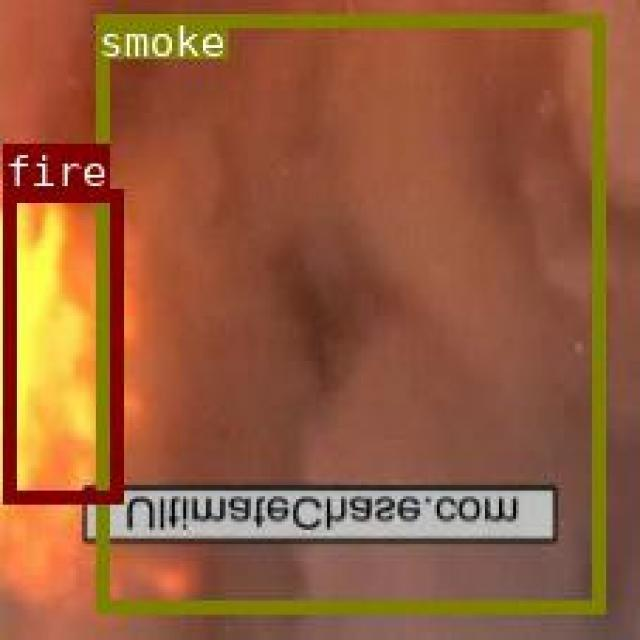fire: (1, 187, 119, 500)
smoke: (94, 14, 603, 610)
